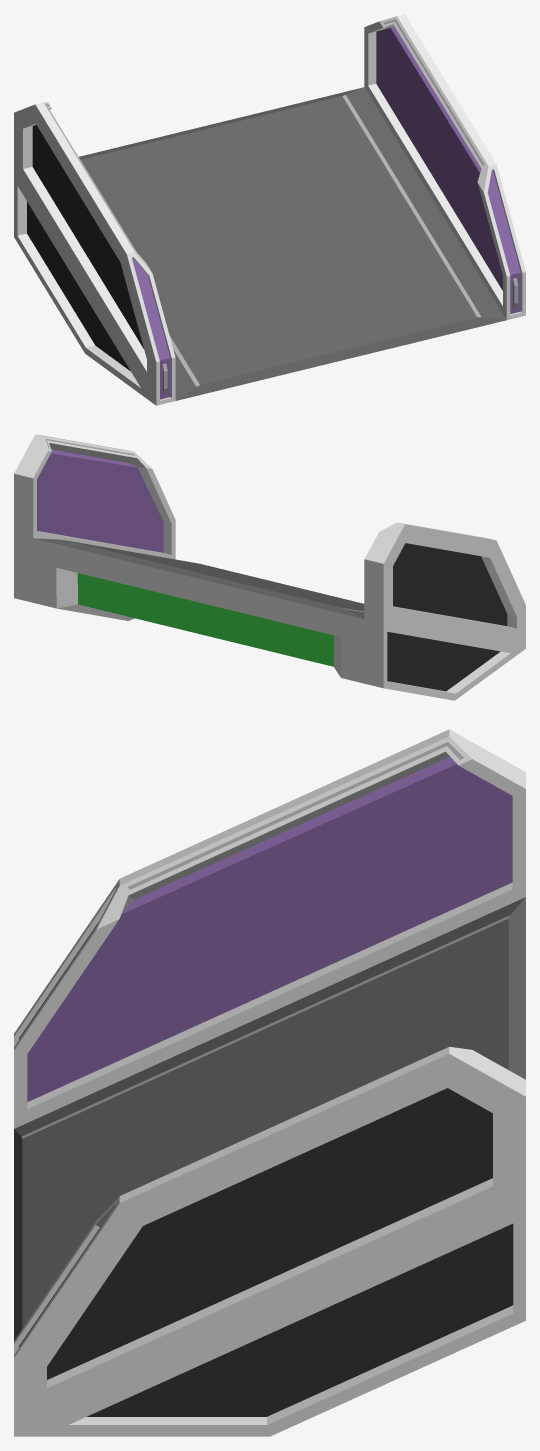
The model's file is SmallStairs00.fbx.
3 renders of one model, top to bottom at view 1: azimuth 30°, elevation 25°; view 2: azimuth 150°, elevation 25°; view 3: azimuth 270°, elevation 25°, orthographic. The views are drawn at different scales.
Parts seen in each view (by area): view 1: SmallStairs00; view 2: SmallStairs00; view 3: SmallStairs00.
Part boxes in pixels (bbox=[...]): SmallStairs00: bbox=[14, 14, 525, 405]; SmallStairs00: bbox=[14, 434, 525, 700]; SmallStairs00: bbox=[14, 729, 525, 1436].
Bounding box in the file's own units: 150 × 82.51 × 100.
